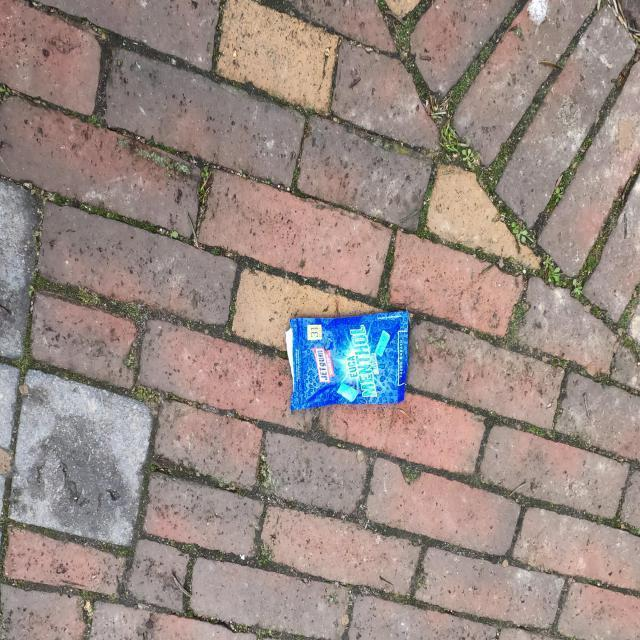Plastic: (284, 310, 412, 416)
